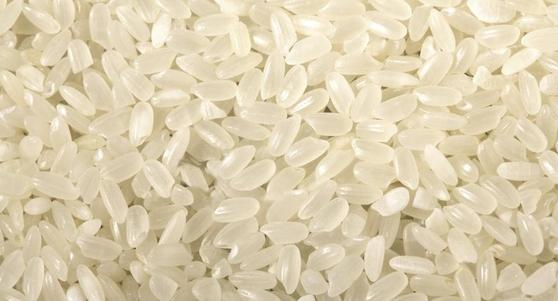rice: (44, 14, 523, 289)
